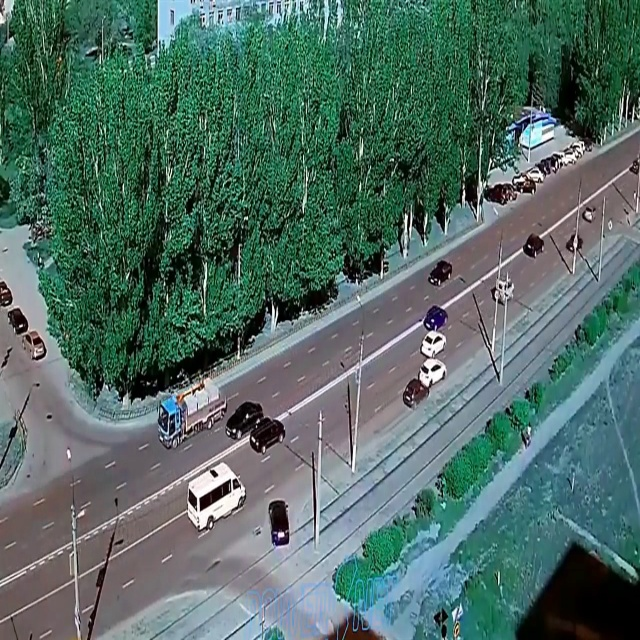acc: (388, 359, 452, 409)
